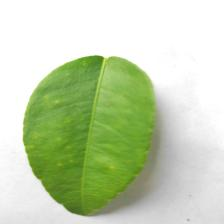greening: (18, 68, 161, 198)
